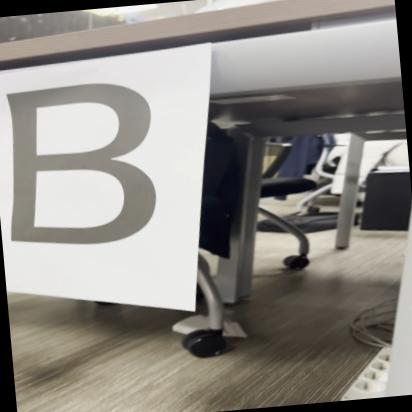seat: (0, 76, 170, 259)
